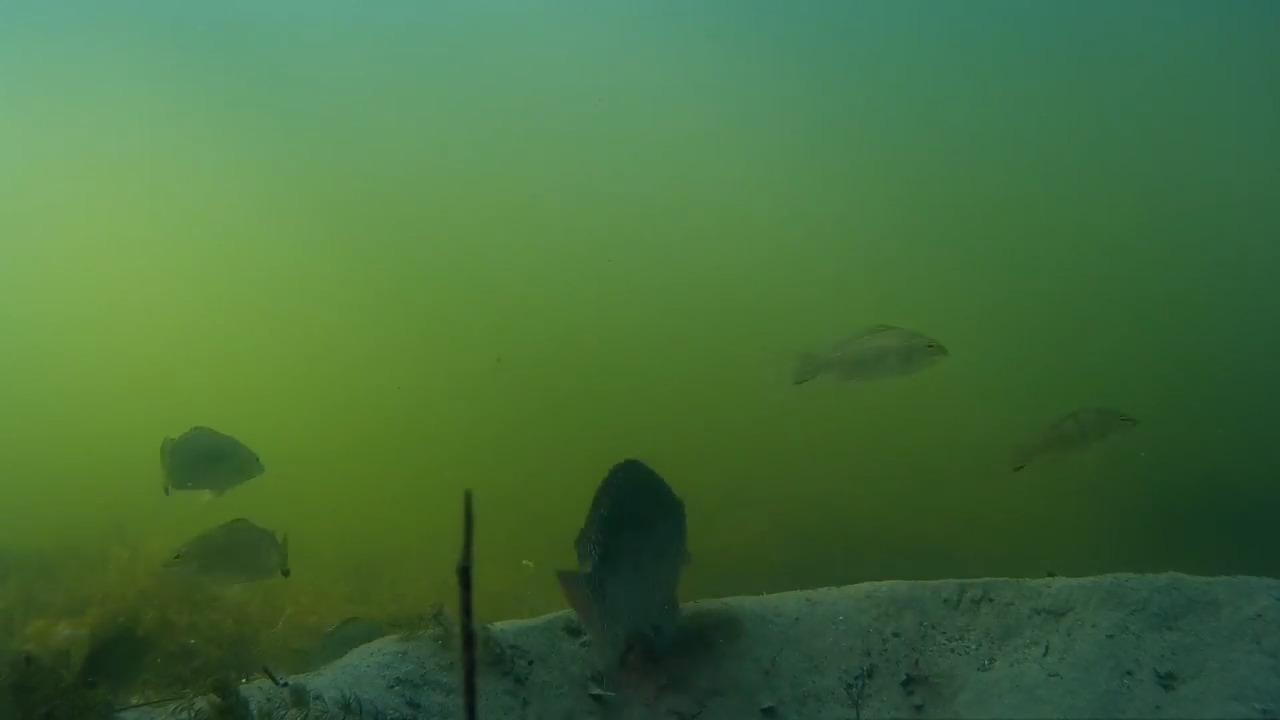Tilapia: (561, 454, 698, 650), (770, 322, 953, 396), (995, 399, 1144, 484), (127, 520, 305, 590), (146, 421, 267, 502)
